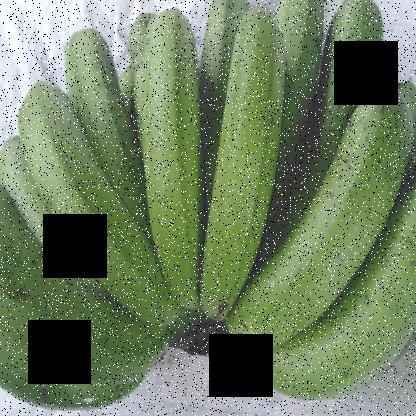freshunripe: (138, 4, 210, 323)
unripe: (230, 79, 415, 343), (12, 78, 163, 344), (198, 4, 289, 318), (245, 263, 415, 400), (54, 28, 140, 211), (320, 2, 388, 130)
